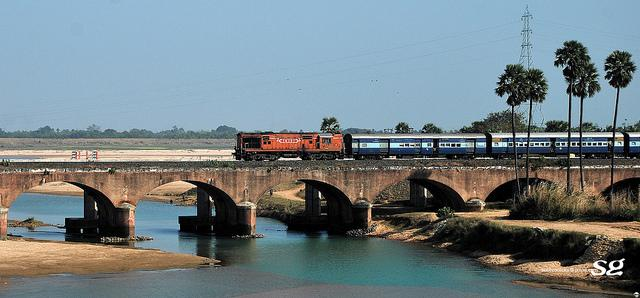Train: (232, 130, 640, 163)
